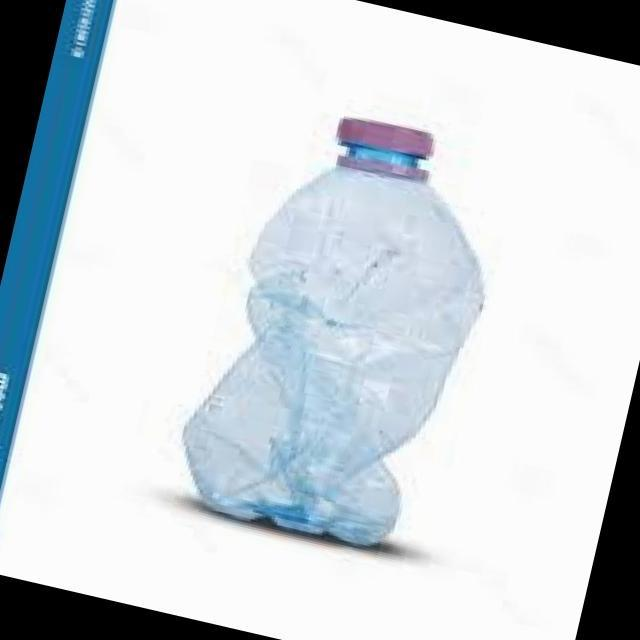defected: (137, 59, 529, 574)
